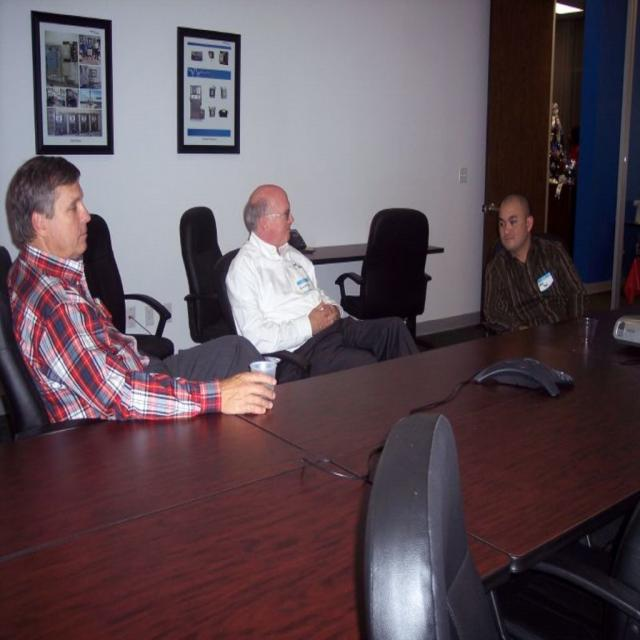chair: (355, 413, 637, 639), (334, 207, 434, 341), (0, 247, 50, 441), (180, 206, 234, 342)
desk: (81, 316, 614, 620)
person: (5, 157, 273, 424), (227, 183, 422, 381), (482, 193, 590, 335)
